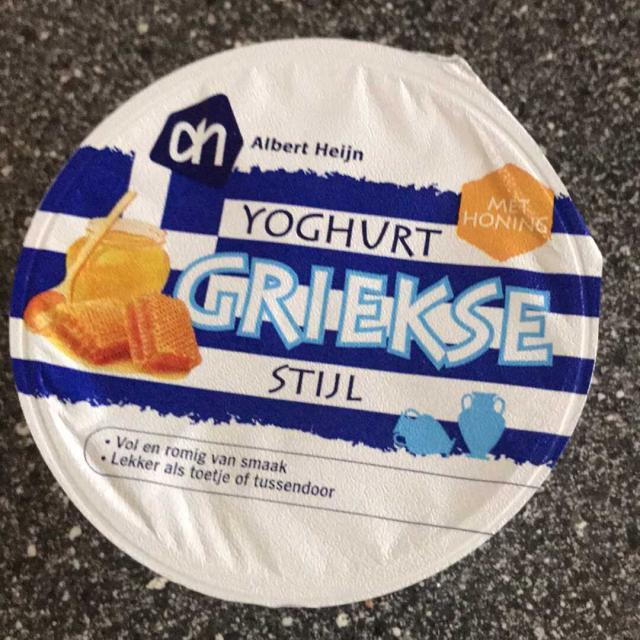yoghurt: (4, 37, 600, 611)
